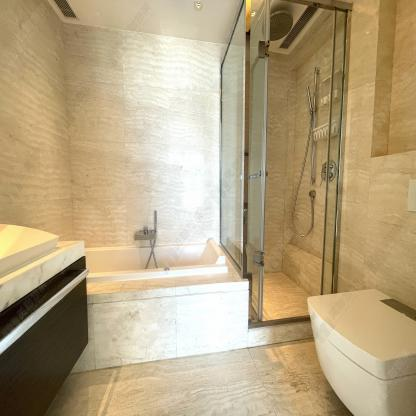Bathtub: (71, 243, 250, 374)
Toilet: (308, 287, 416, 416)
Water Cubicle: (221, 0, 352, 345)
